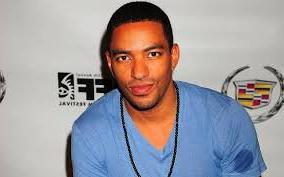Sober: (111, 28, 168, 105)
